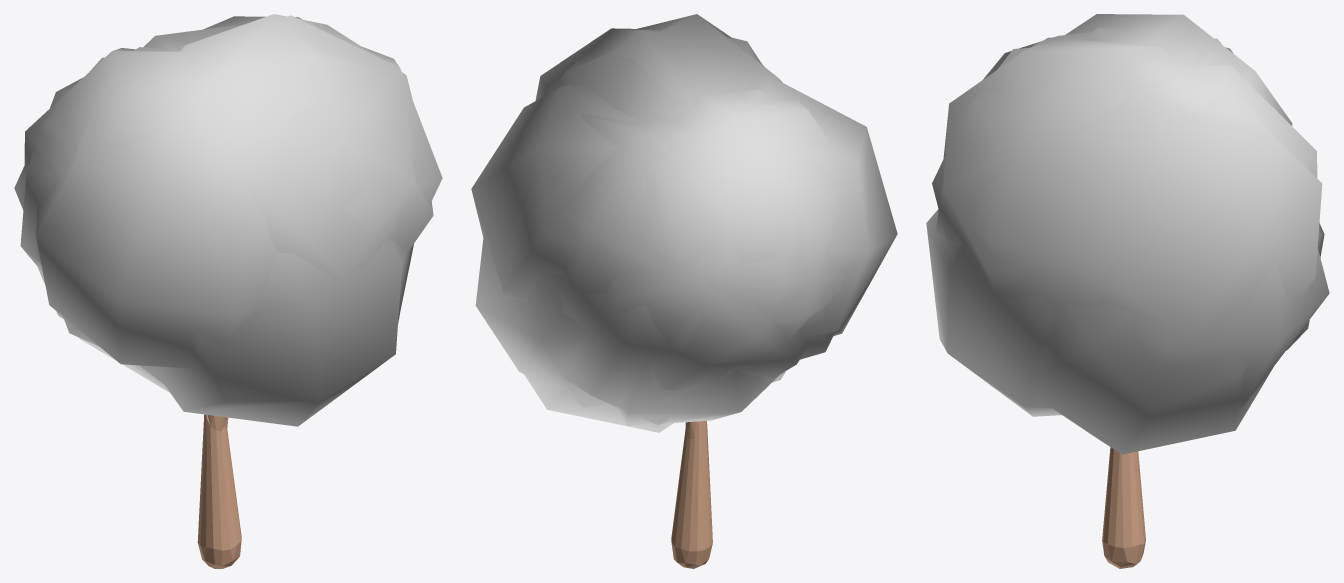
File: tree6.fbx
3 renders of one model, left to right at view 1: azimuth 30°, elevation 25°; view 2: azimuth 150°, elevation 25°; view 3: azimuth 270°, elevation 25°, orthographic. The views are drawn at different scales.
Parts seen in each view (by area): view 1: Cube.003, Cube; view 2: Cube.003, Cube; view 3: Cube.003, Cube.
Part boxes in pixels (box(x1,y1,x2,y2)): Cube.003: box(14, 14, 442, 426); Cube: box(197, 414, 241, 568); Cube.003: box(471, 14, 897, 432); Cube: box(671, 421, 712, 568); Cube.003: box(926, 14, 1329, 454); Cube: box(1102, 447, 1145, 568).
Bounding box in the file's own units: 1945 × 2705 × 1814.
